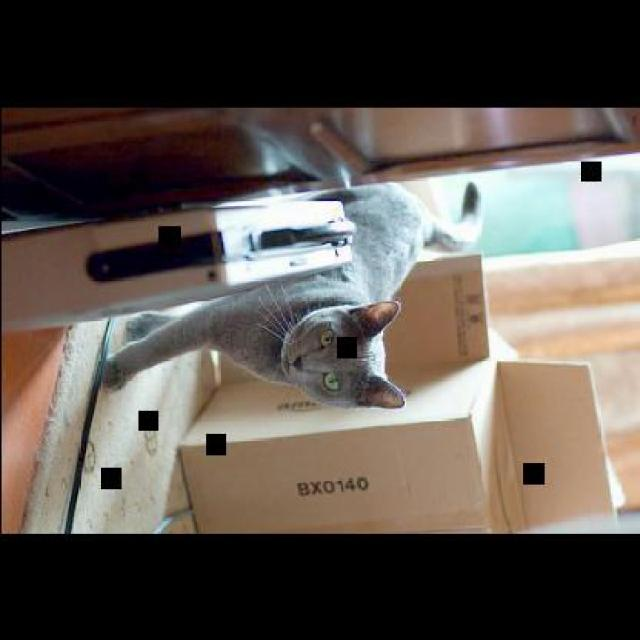unauthorized: (100, 178, 482, 410)
